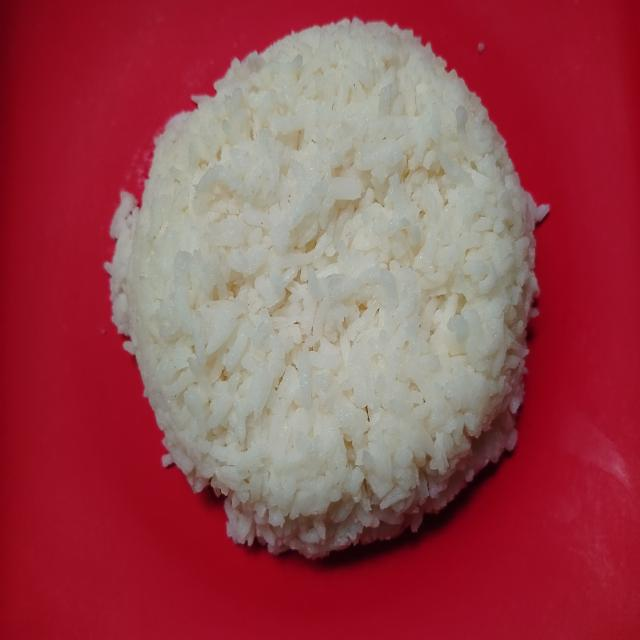Chicken -Chicken Inasal-: (113, 14, 541, 567)
